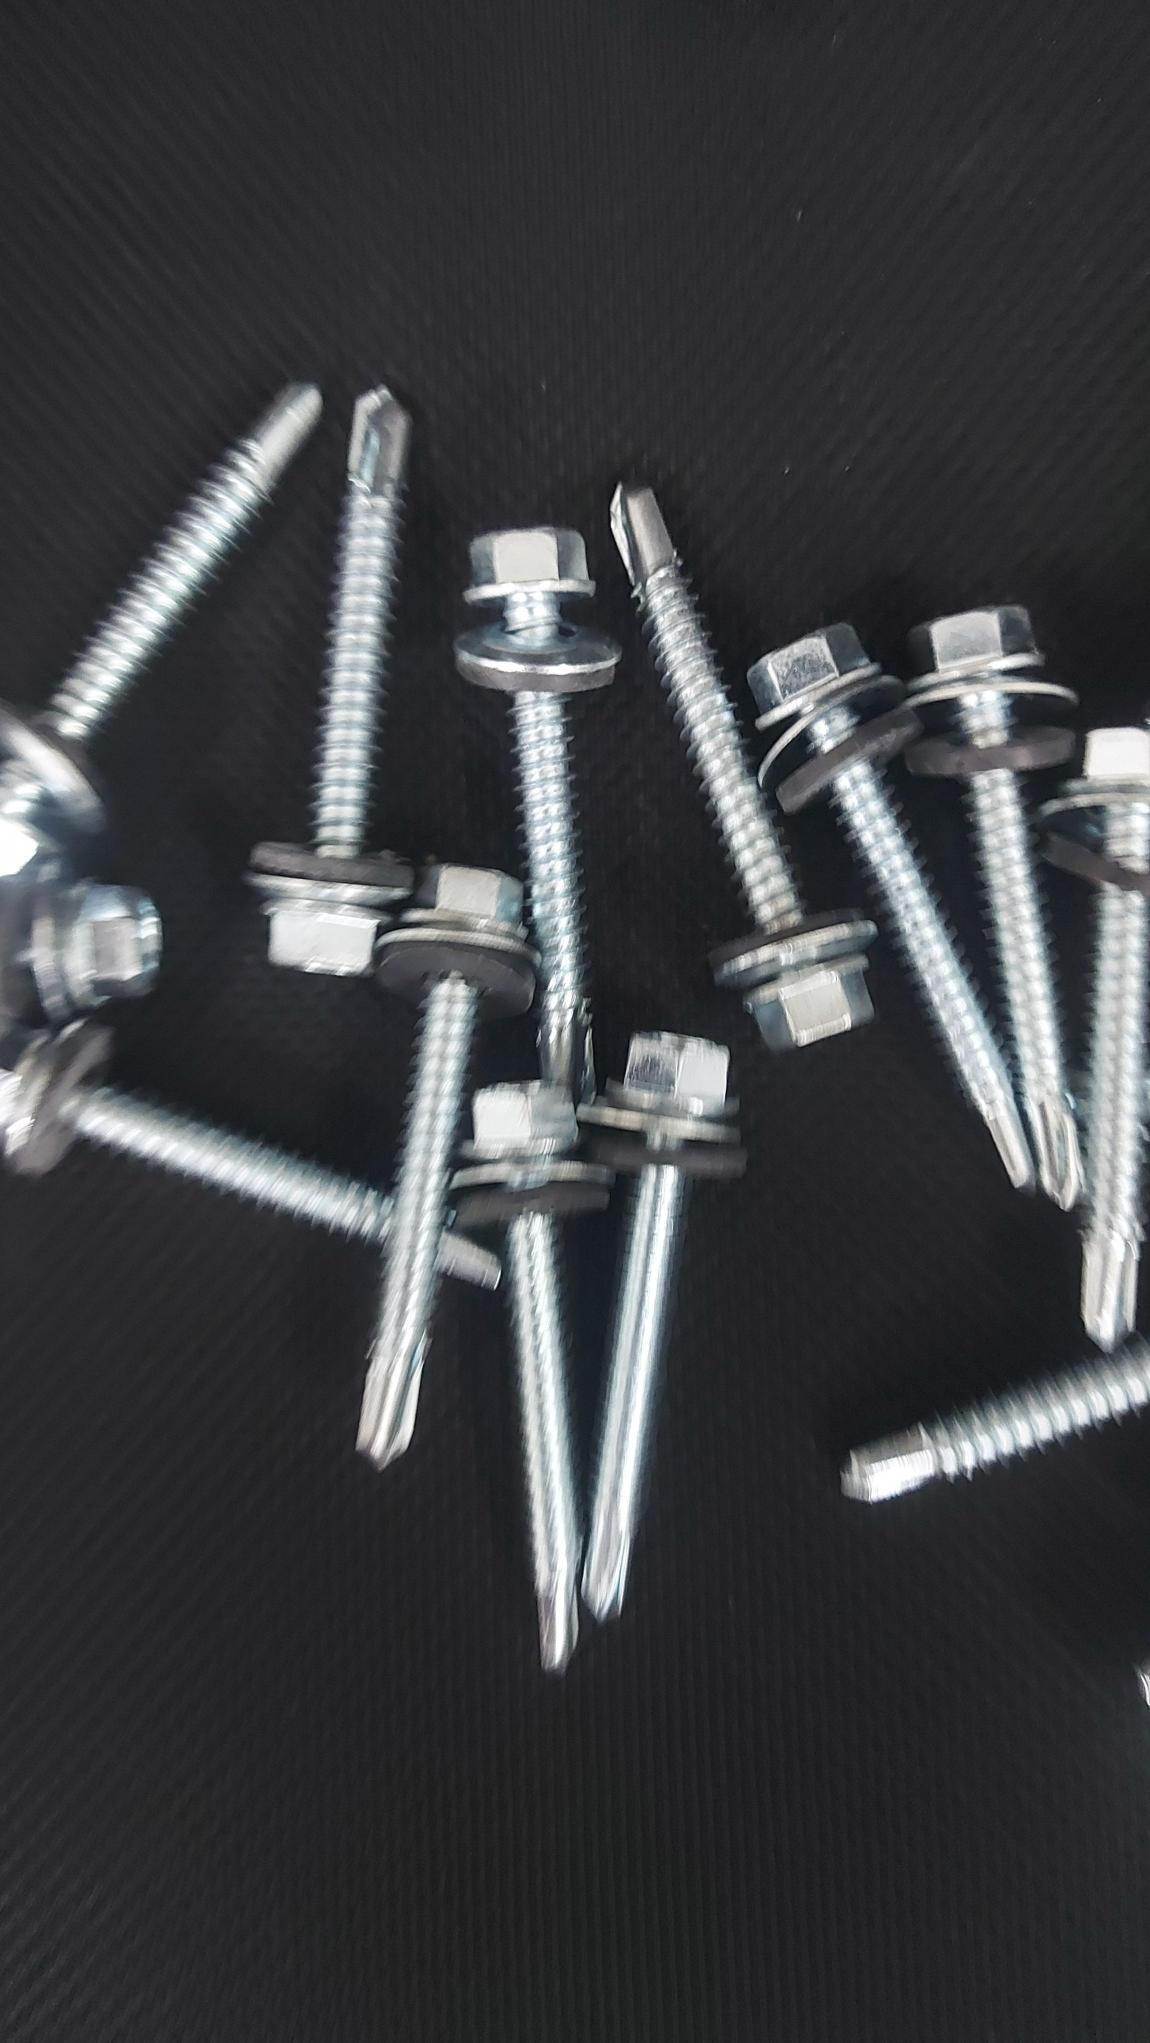Screw: (749, 624, 1032, 1187), (611, 485, 874, 1050), (0, 384, 321, 833), (906, 606, 1081, 1208), (358, 866, 533, 1466), (582, 1033, 745, 1619), (251, 387, 412, 975), (454, 528, 618, 1100), (454, 1083, 610, 1671), (0, 1021, 393, 1245), (1042, 727, 1149, 1348), (841, 1339, 1149, 1501), (438, 1229, 499, 1287)
